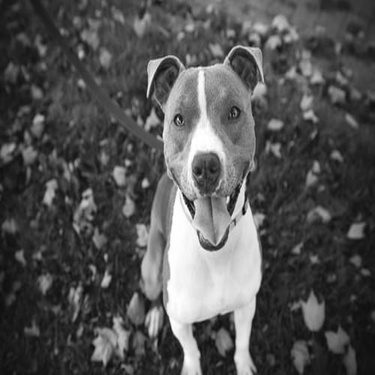dog: (130, 37, 272, 371)
